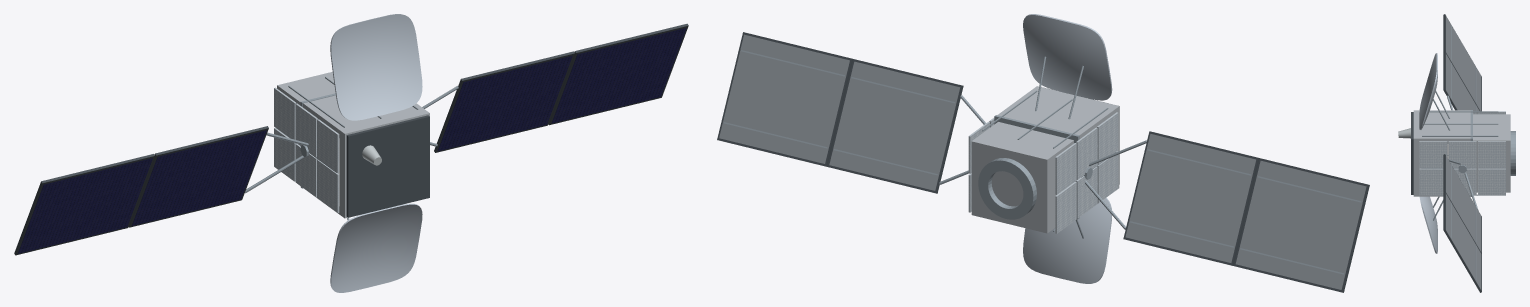
File: nss-9.glb
3 renders of one model, left to right at view 1: azimuth 30°, elevation 25°; view 2: azimuth 150°, elevation 25°; view 3: azimuth 270°, elevation 25°, orthographic. The views are drawn at different scales.
Parts seen in each view (by area): view 1: Solar cell panel (×4), Reflector 2 face, Earth-facing deck, Reflector 1 face, Radiator bay (×6), Solar panel frame (×4), Payload module, Service module; view 2: Rear array substrate (×4), Service module, Reflector 2 face, Solar panel frame (×4), Radiator bay (×6), Reflector 1 face, Payload module, Launch adapter ring, Module interface; view 3: Rear array substrate (×4), Radiator bay (×7), Payload module, Service module, Solar panel frame (×4), Reflector 2 face, Reflector 1 face, Blanket closeout seam (×3), Launch adapter ring, Earth-facing deck, Global beam horn, Array yoke (+1 smaller).
Boxes of the visible parts, box(x1,y1,x2,y2) form: Solar cell panel (×4): box(18, 28, 686, 253); Reflector 2 face: box(330, 14, 422, 120); Earth-facing deck: box(346, 115, 429, 217); Reflector 1 face: box(330, 203, 422, 292); Radiator bay (×6): box(274, 87, 339, 213); Solar panel frame (×4): box(14, 23, 688, 255); Payload module: box(303, 95, 429, 218); Service module: box(277, 72, 335, 105); Rear array substrate (×4): box(719, 34, 1366, 289); Service module: box(971, 122, 1073, 233); Reflector 2 face: box(1023, 14, 1112, 100); Solar panel frame (×4): box(717, 32, 1369, 292); Radiator bay (×6): box(1055, 112, 1118, 233); Reflector 1 face: box(1023, 197, 1111, 283); Payload module: box(997, 86, 1119, 203); Launch adapter ring: box(978, 158, 1036, 219); Module interface: box(994, 115, 1079, 219); Rear array substrate (×4): box(1446, 16, 1481, 289); Radiator bay (×7): box(1419, 111, 1505, 195); Payload module: box(1413, 110, 1470, 196); Service module: box(1473, 114, 1510, 192); Solar panel frame (×4): box(1443, 14, 1481, 292); Reflector 2 face: box(1419, 53, 1437, 129); Reflector 1 face: box(1419, 196, 1437, 253); Blanket closeout seam (×3): box(1422, 111, 1498, 136); Launch adapter ring: box(1510, 131, 1515, 175); Earth-facing deck: box(1411, 112, 1413, 194); Global beam horn: box(1398, 128, 1410, 138); Array yoke: box(1464, 172, 1478, 210).
Bounding box in the file's own units: 17.47 × 6.91 × 4.03.
Materials: 9 (2 with a texture image).
